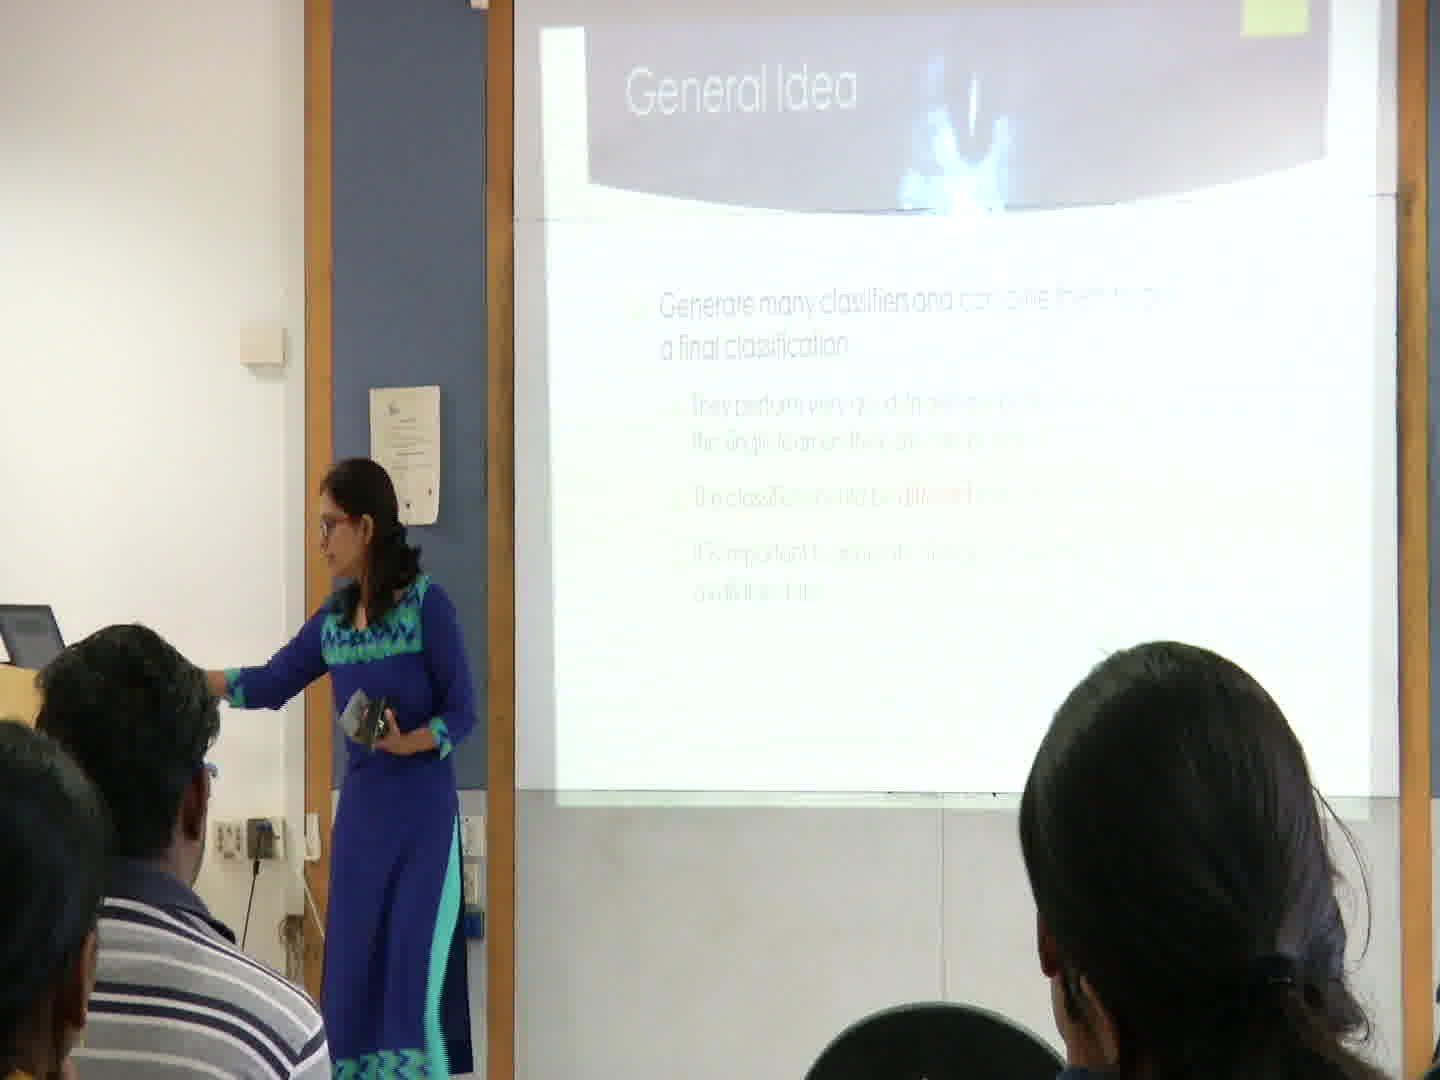slide: (541, 3, 1372, 819)
